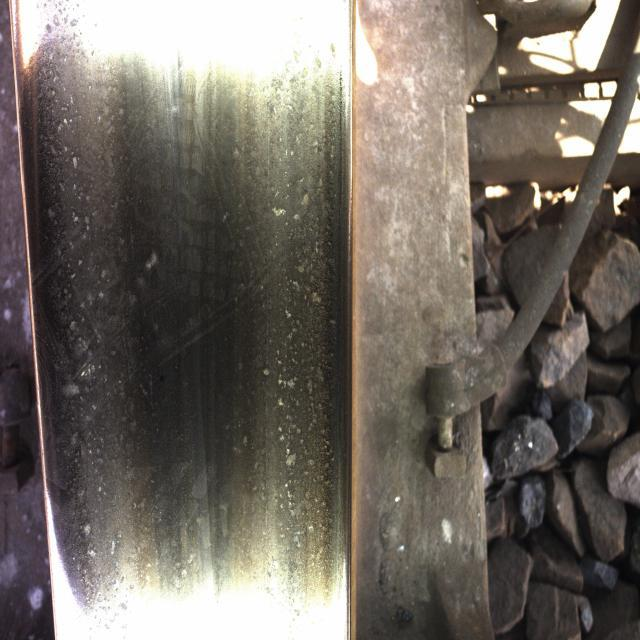scar: (48, 21, 148, 540), (245, 85, 326, 587)
